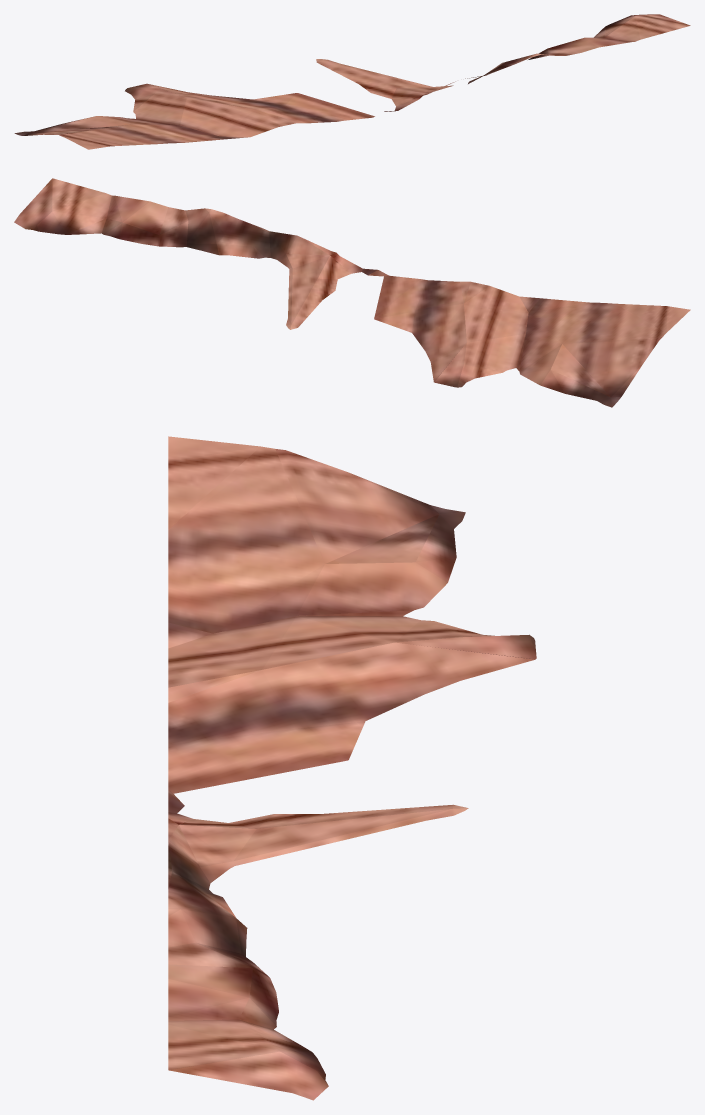
3 renders of one model, top to bottom at view 1: azimuth 30°, elevation 25°; view 2: azimuth 150°, elevation 25°; view 3: azimuth 270°, elevation 25°, orthographic. The views are drawn at different scales.
Bounding box in the file's own units: 0.8374 × 0.0505 × 0.2216.
Materials: 1 (1 with a texture image).
